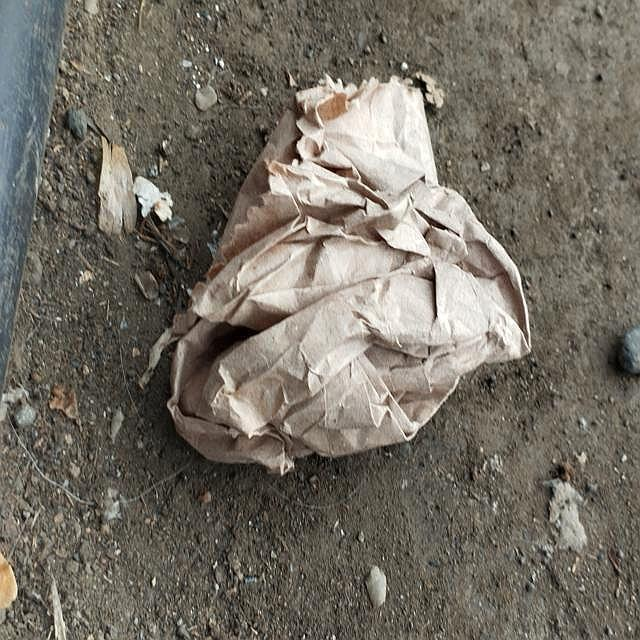Biodegradable: (168, 79, 532, 478)
